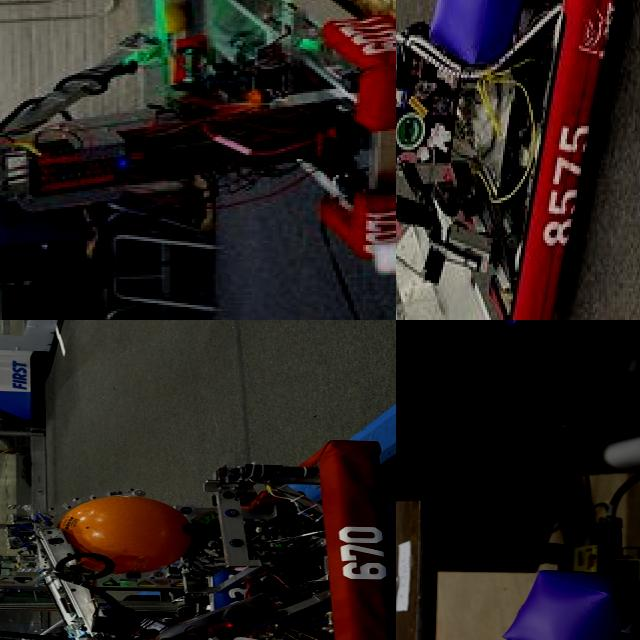FRC-Robots: (0, 0, 396, 295), (0, 407, 396, 640), (396, 0, 619, 320), (396, 461, 640, 640)
